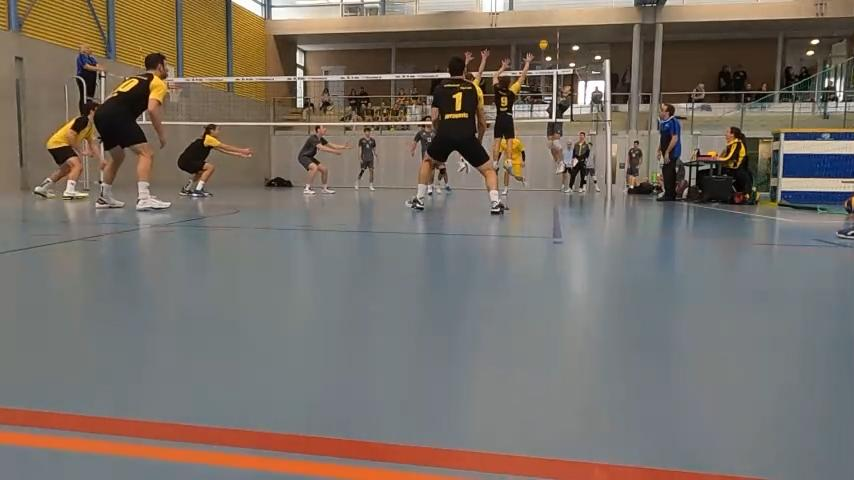attacco: (544, 77, 570, 175)
muro: (486, 48, 535, 176), (459, 45, 489, 86)
